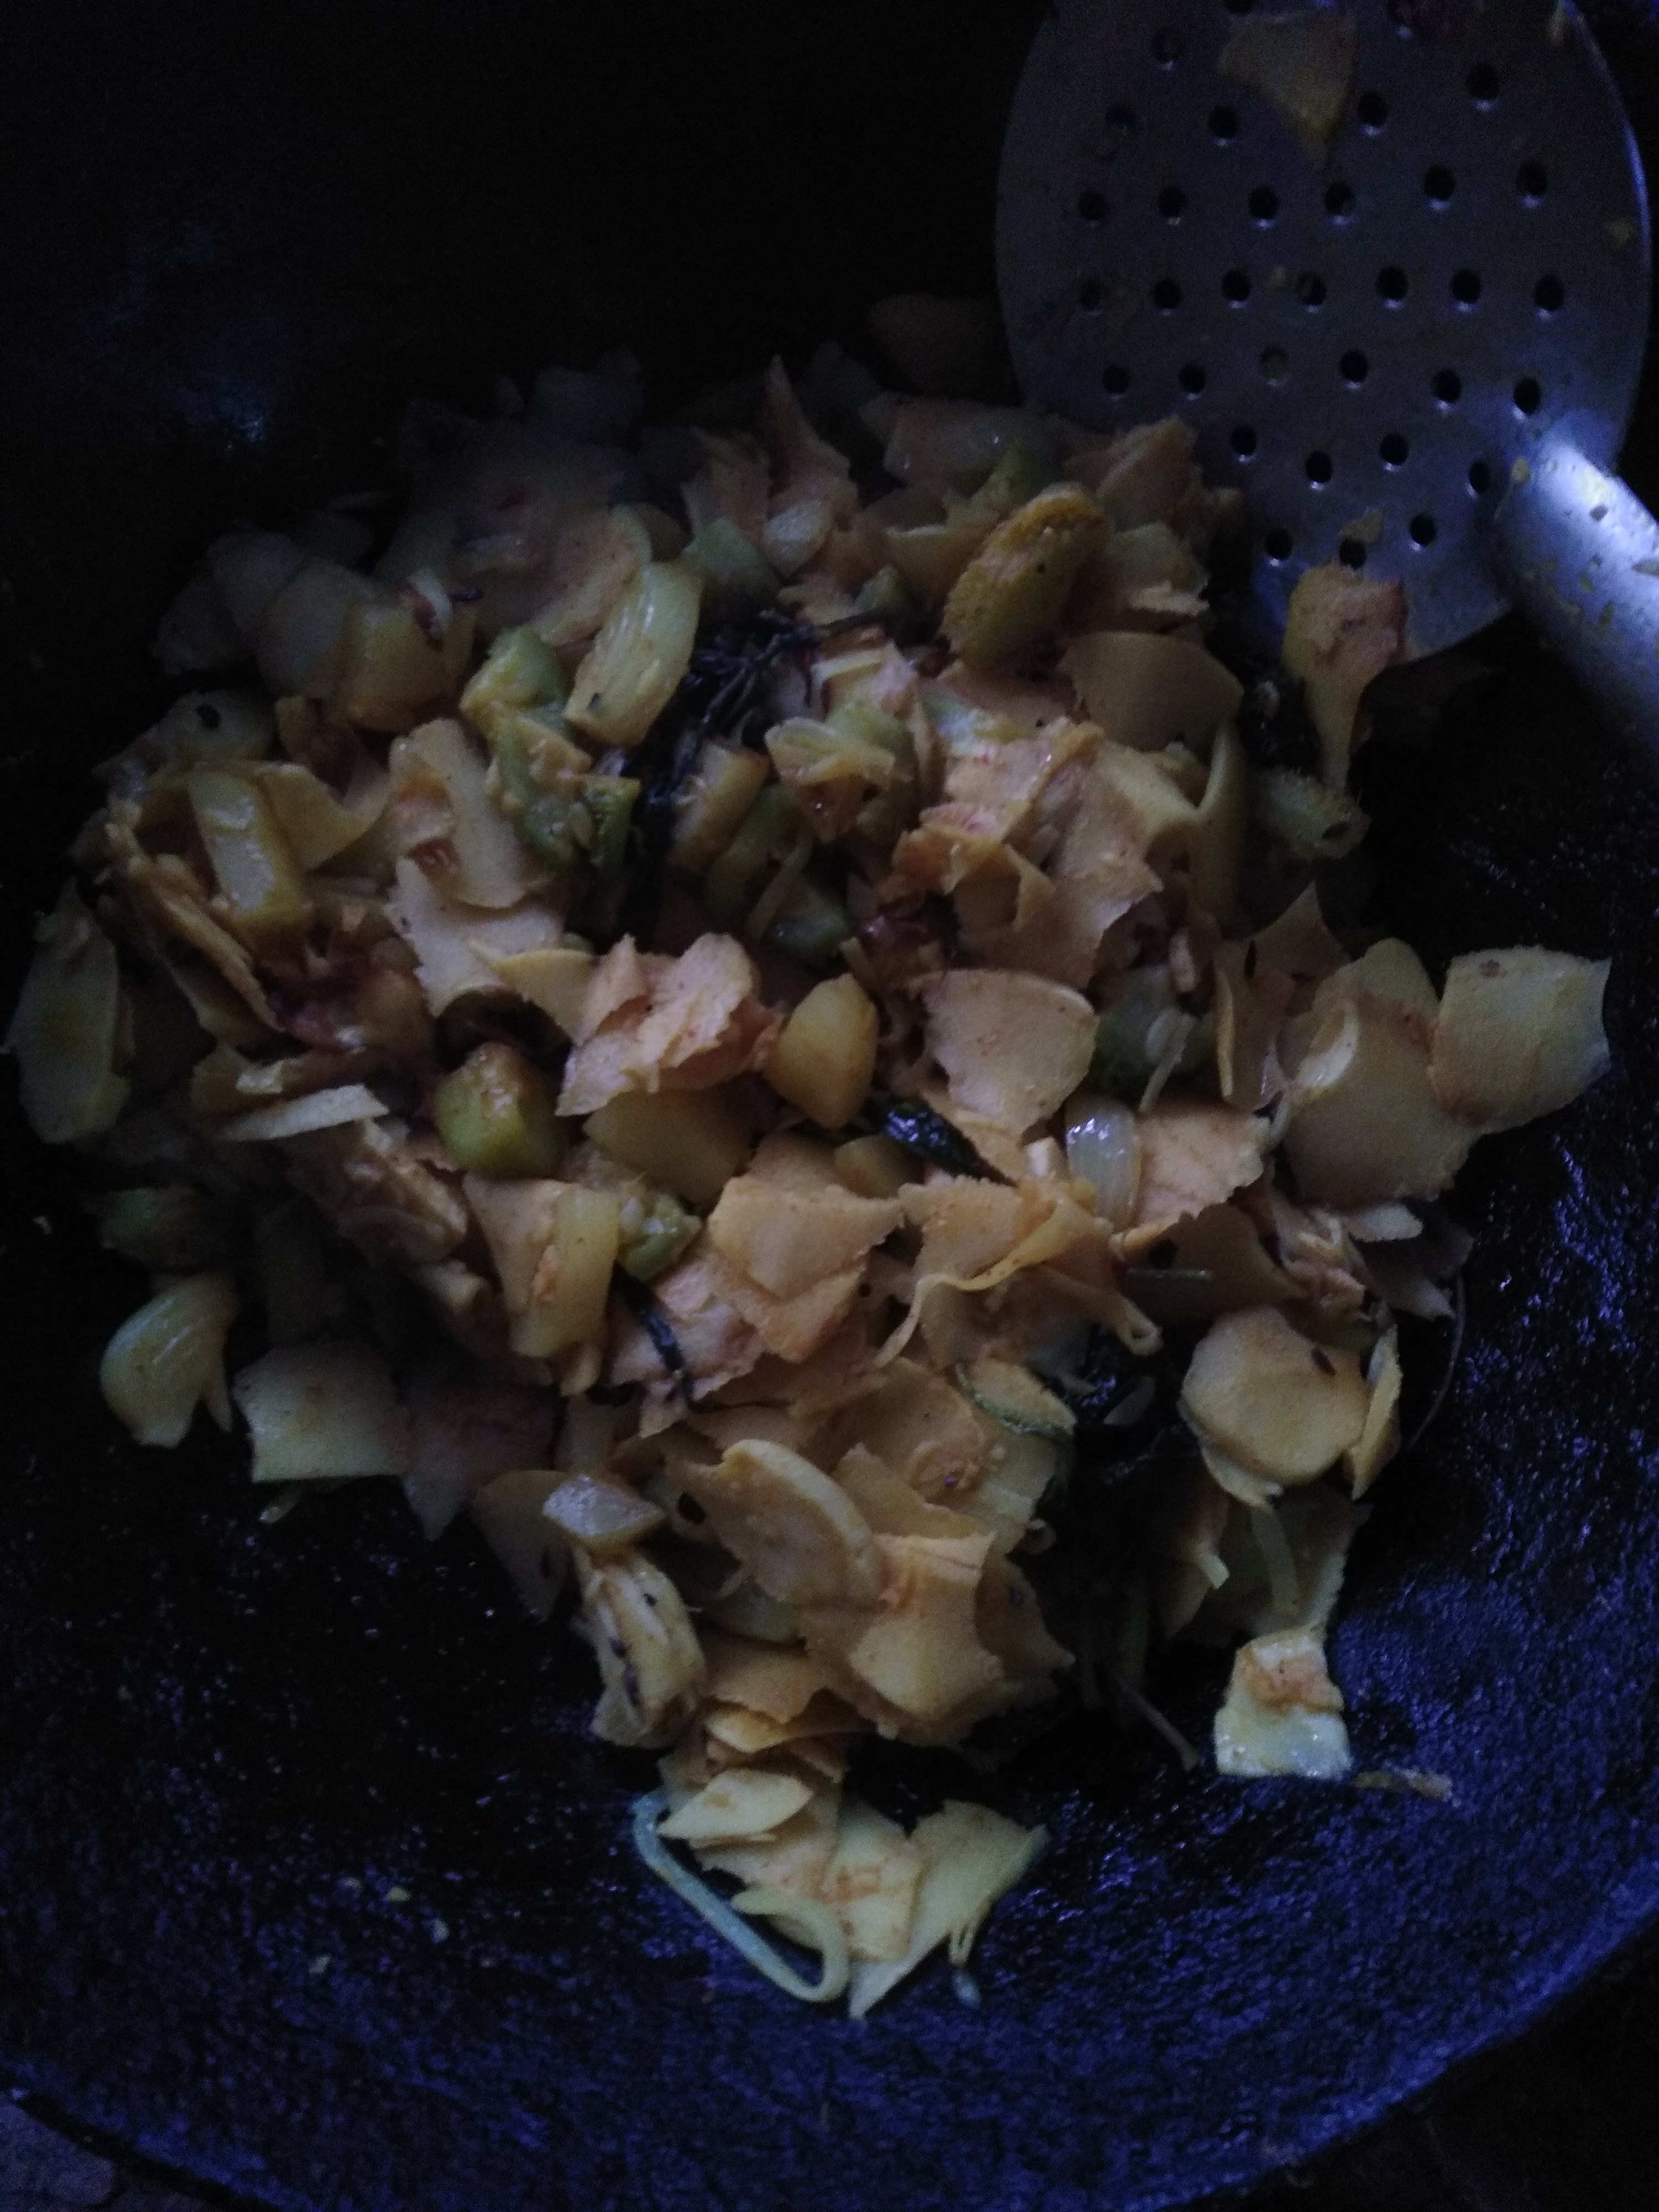food: (2, 251, 1631, 2040)
